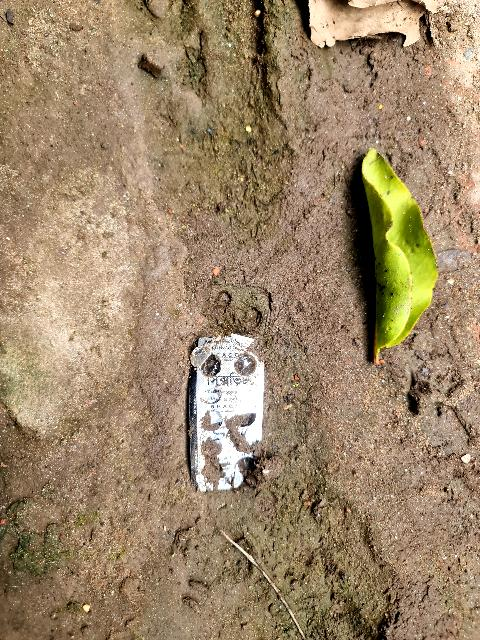medicine: (168, 320, 274, 518)
